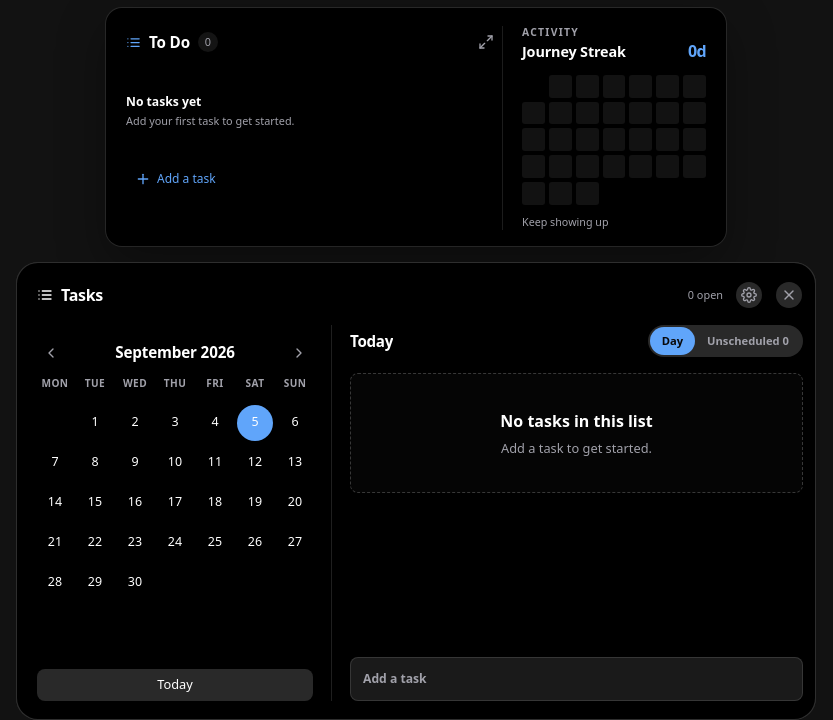
Scenario: Tasks surface › reconciles failed mutations and prevents concurrent saves
expect the heading "Tasks" is shown: met, box [61,287,103,303]
Click the button with aria-label "Add task" at [395, 678], box [350,657,803,701]
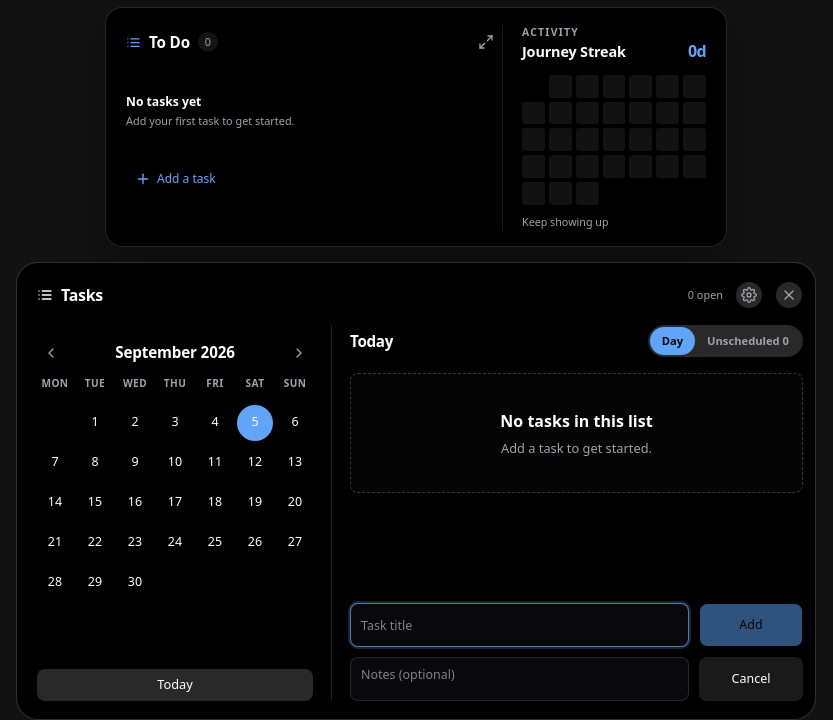
Type "Failed task" into the field labelled "title" at [520, 625], box [350,603,689,647]
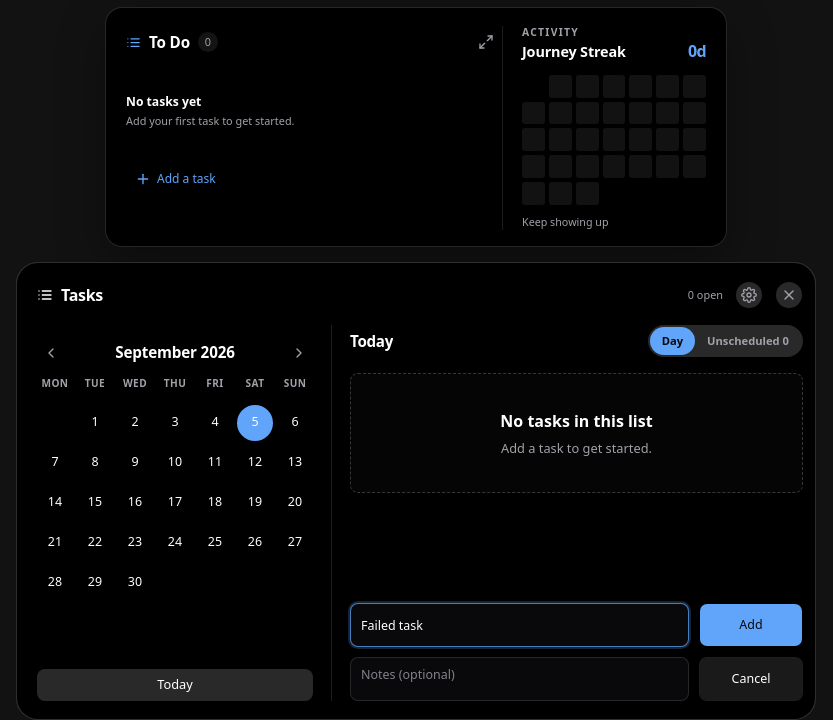
Click the button with aria-label "Add task" at [751, 625], box [699,603,803,647]
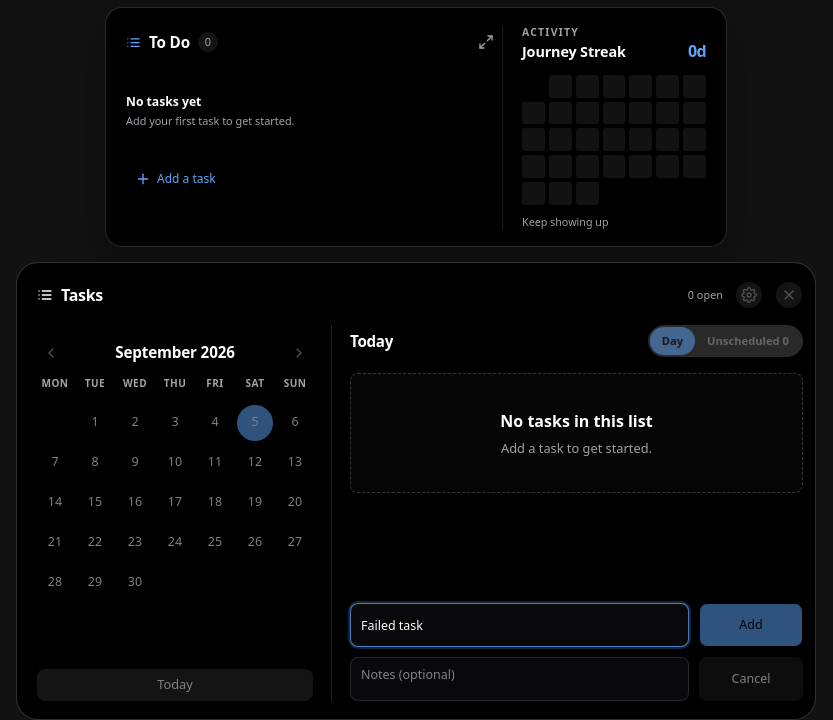
Click the button with aria-label "Add task" at [751, 625], box [699,603,803,647]
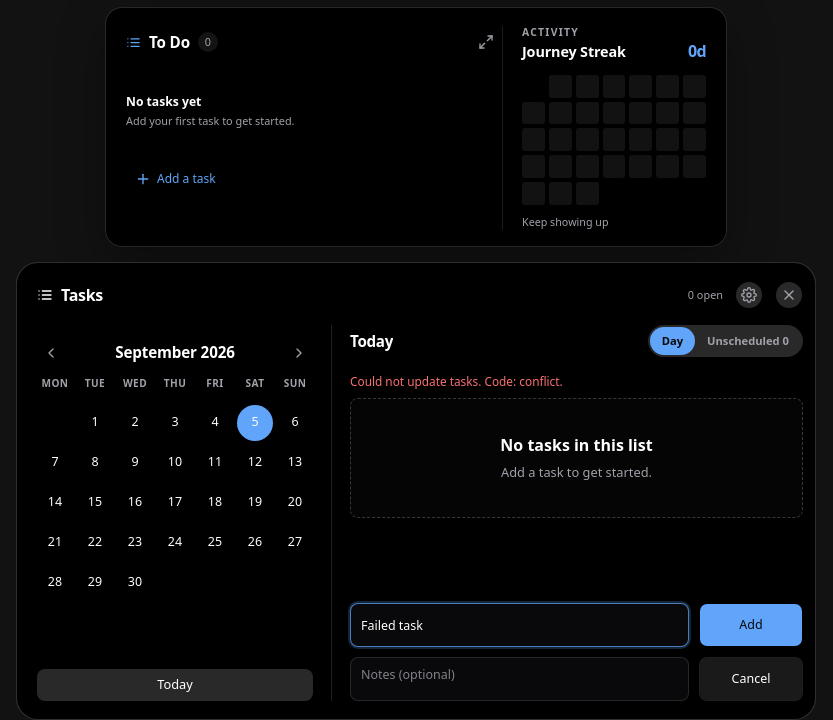
expect the message does not show "private": met, box [350,373,563,389]
expect the form named "Create task" is shown: met, box [350,603,803,701]
expect the message shows "conflict": met, box [519,373,560,389]
